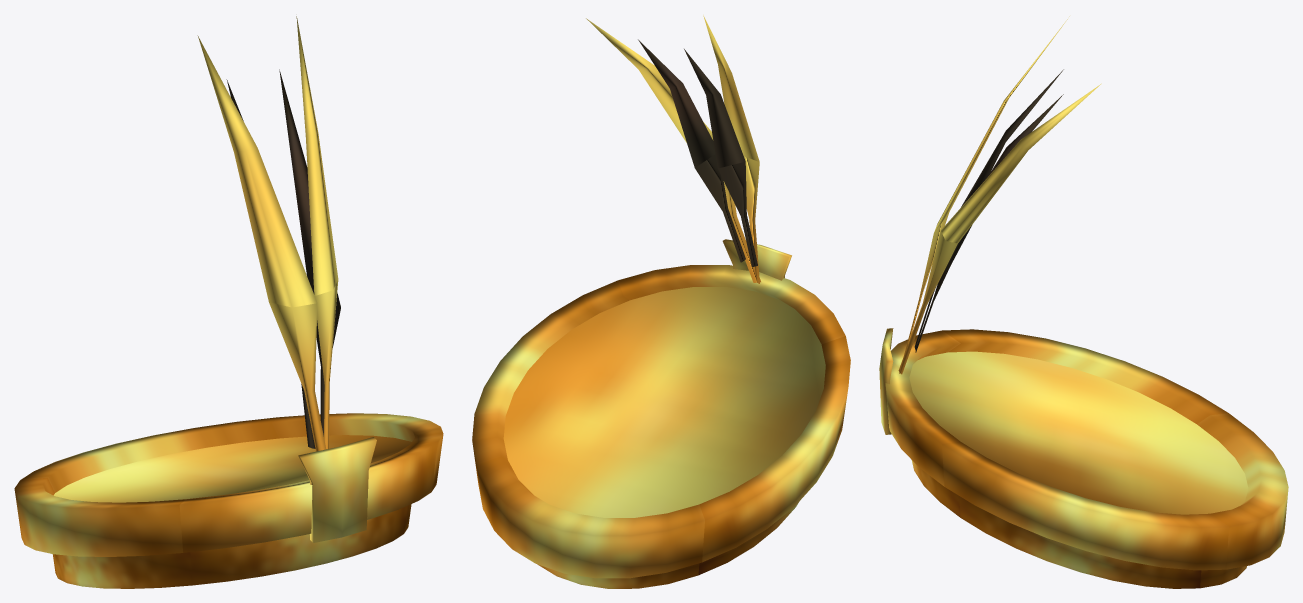
File: inca_h_3.dae
3 renders of one model, left to right at view 1: azimuth 30°, elevation 25°; view 2: azimuth 150°, elevation 25°; view 3: azimuth 270°, elevation 25°, orthographic. The views are drawn at different scales.
Parts seen in each view (by area): view 1: h_3; view 2: h_3; view 3: h_3.
Boxes of the visible parts, bbox=[...] form: h_3: bbox=[14, 16, 443, 588]; h_3: bbox=[472, 15, 850, 588]; h_3: bbox=[879, 16, 1288, 588].
Size of the model in its own units: 0.5958 by 0.6423 by 0.91.
